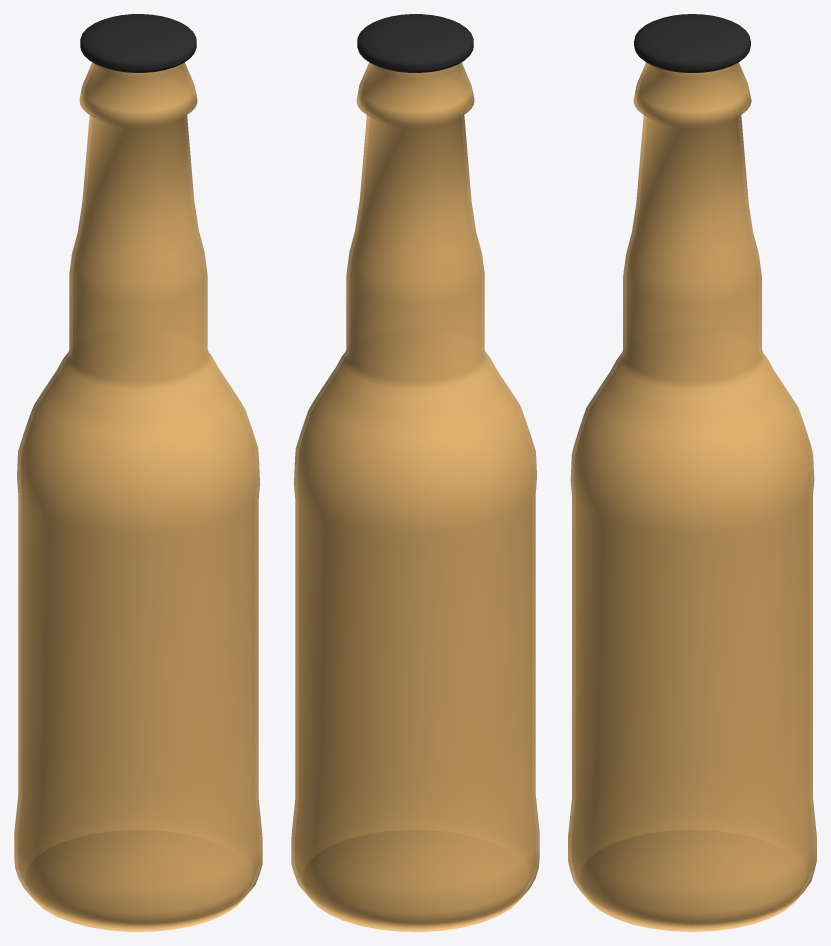
File: bearBottle14.gltf
3 views of the same model, side by side, from view 1: azimuth 30°, elevation 25°; view 2: azimuth 150°, elevation 25°; view 3: azimuth 270°, elevation 25° (orthographic).
Visible parts, largest first — view 1: Cylinder, Cylinder.001; view 2: Cylinder, Cylinder.001; view 3: Cylinder, Cylinder.001.
Boxes of the visible parts, x1,y1,x2,y2 form: Cylinder: (14, 62, 262, 931); Cylinder.001: (80, 14, 196, 72); Cylinder: (291, 62, 539, 931); Cylinder.001: (357, 14, 473, 72); Cylinder: (568, 62, 816, 931); Cylinder.001: (634, 14, 750, 72).
Bounding box in the file's own units: 2 × 7.62 × 2.
